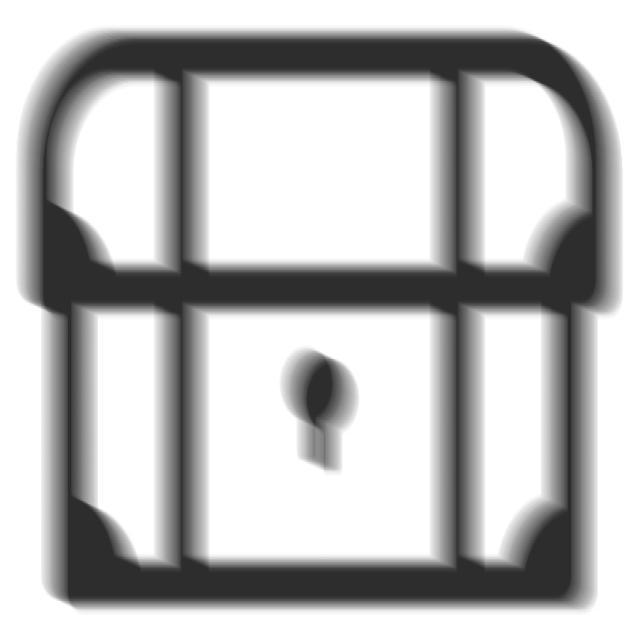treasure_box: (15, 20, 630, 626)
